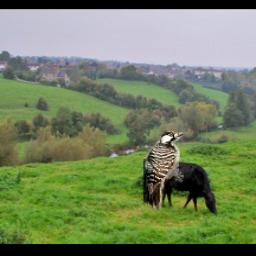Woodpecker: (143, 132, 184, 212)
